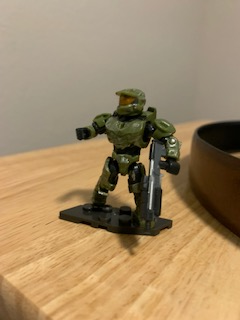chief: (76, 87, 182, 228)
rifle: (142, 138, 175, 226)
spartan: (74, 85, 180, 226)
